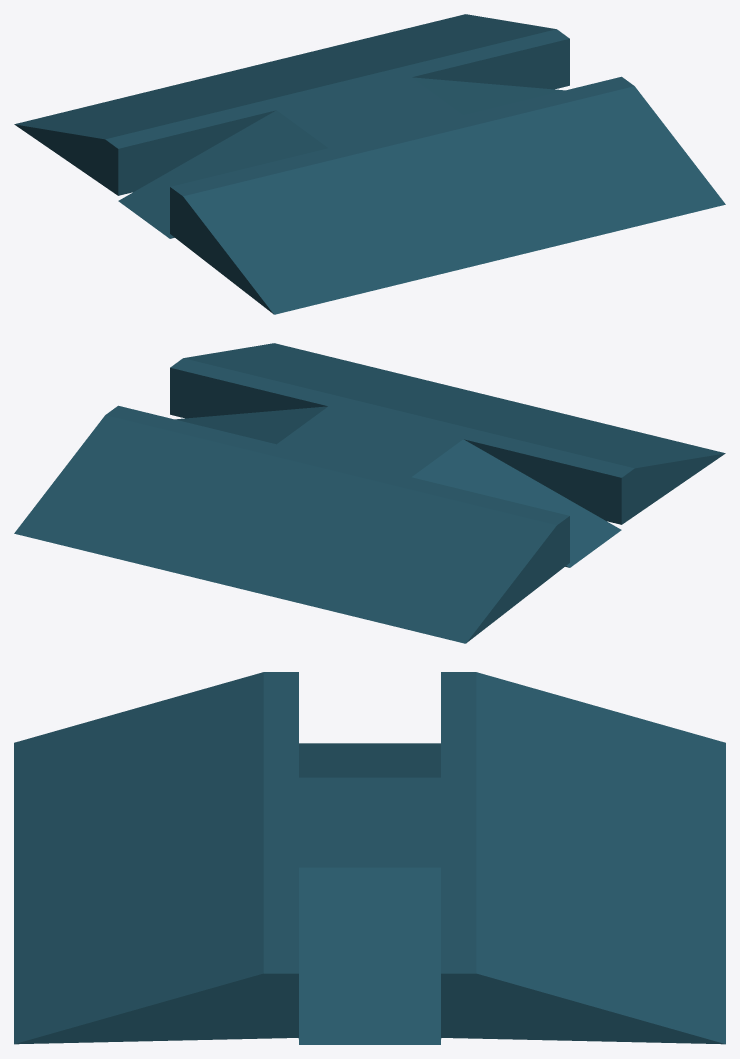
The model's file is stunt ramp 2.fbx.
The picture shows the model from 3 angles, top to bottom: view 1: azimuth 30°, elevation 25°; view 2: azimuth 150°, elevation 25°; view 3: azimuth 270°, elevation 25°; orthographic projection. The views are drawn at different scales.
Parts seen in each view (by area): view 1: building_001; view 2: building_001; view 3: building_001.
Boxes of the visible parts, x1,y1,x2,y2 form: building_001: (14, 14, 725, 314); building_001: (14, 343, 725, 643); building_001: (14, 672, 725, 1044).
Size of the model in its own units: 2011 by 222 by 2006.
